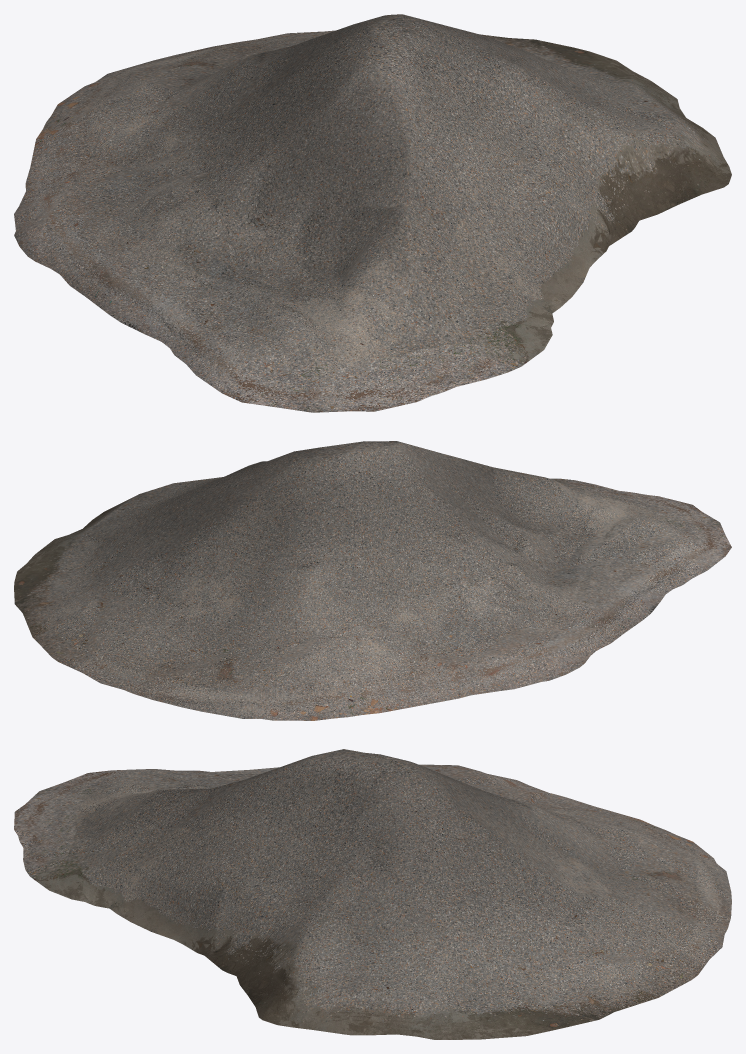
The model's file is SM_ShaShiDui.glb.
The picture shows the model from 3 angles, top to bottom: view 1: azimuth 30°, elevation 25°; view 2: azimuth 150°, elevation 25°; view 3: azimuth 270°, elevation 25°; orthographic projection. The views are drawn at different scales.
Parts seen in each view (by area): view 1: SM_ShaShiDui; view 2: SM_ShaShiDui; view 3: SM_ShaShiDui.
Boxes of the visible parts, left/top/right/bottom form: SM_ShaShiDui: left=14, top=14, right=731, bottom=412; SM_ShaShiDui: left=14, top=441, right=731, bottom=720; SM_ShaShiDui: left=14, top=749, right=731, bottom=1039.
Bounding box in the file's own units: 6.41 × 1.59 × 7.11.
Materials: 1 (1 with a texture image).
